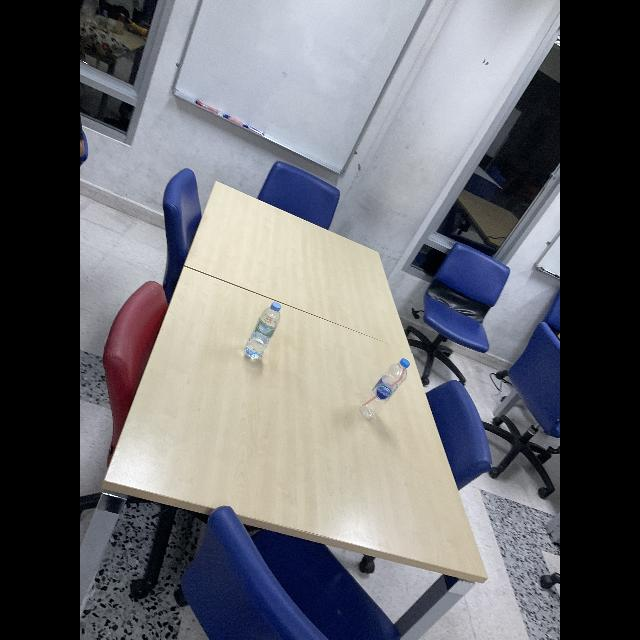plastic_bottle: (358, 357, 409, 423), (244, 302, 282, 362)
plastic_bottle_cap: (268, 298, 286, 314), (400, 354, 410, 370)
straw: (361, 365, 407, 411)
